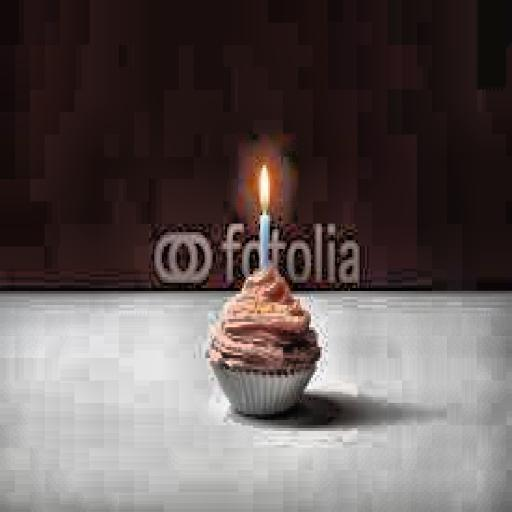fire: (251, 157, 274, 218)
